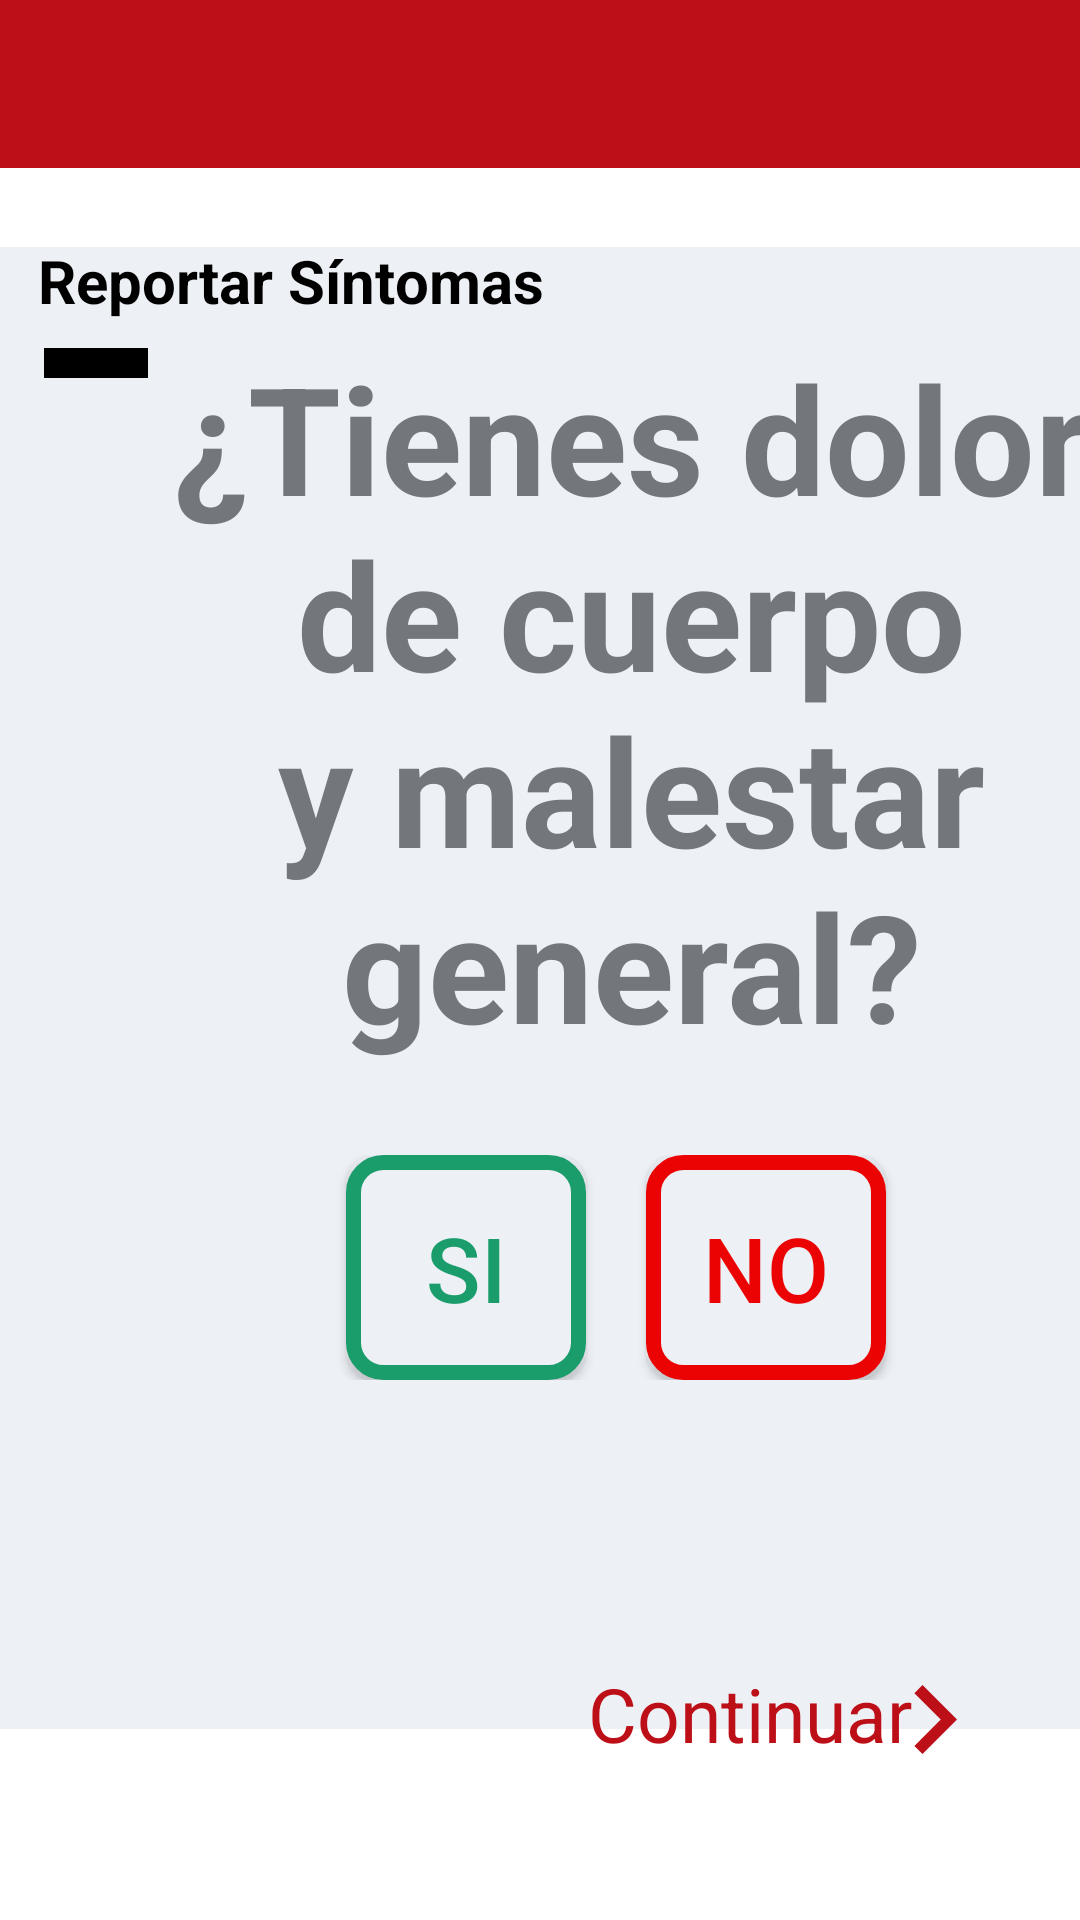

Named icons in this screenshot (1080*1920) and their bounding boxes, (x1,y1,x2,y2):
right arrow: (892,1685,957,1754)
